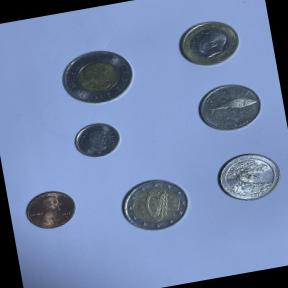coin: (55, 43, 141, 112), (113, 171, 195, 237), (210, 144, 288, 210), (189, 75, 266, 138), (171, 14, 246, 74), (18, 184, 82, 236), (68, 117, 127, 163)
